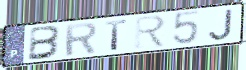5: (172, 9, 201, 47)
B: (27, 24, 64, 62)
J: (207, 7, 234, 41)
R: (63, 21, 98, 58), (134, 14, 168, 50)
T: (104, 18, 129, 52)
